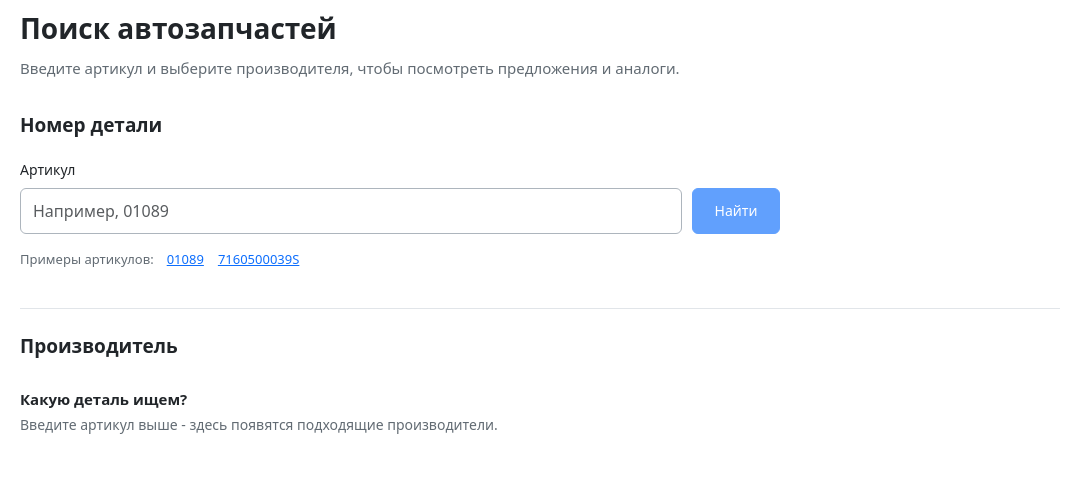
Test: подбор запчасти › отправляет один запрос после паузы, а не запрос на каждый введённый символ
The width and height of the screenshot is (1077, 499).
Step 1. Type "01089" into the field labelled "Артикул" → {"x": 351, "y": 211}, box [20,188,682,234]
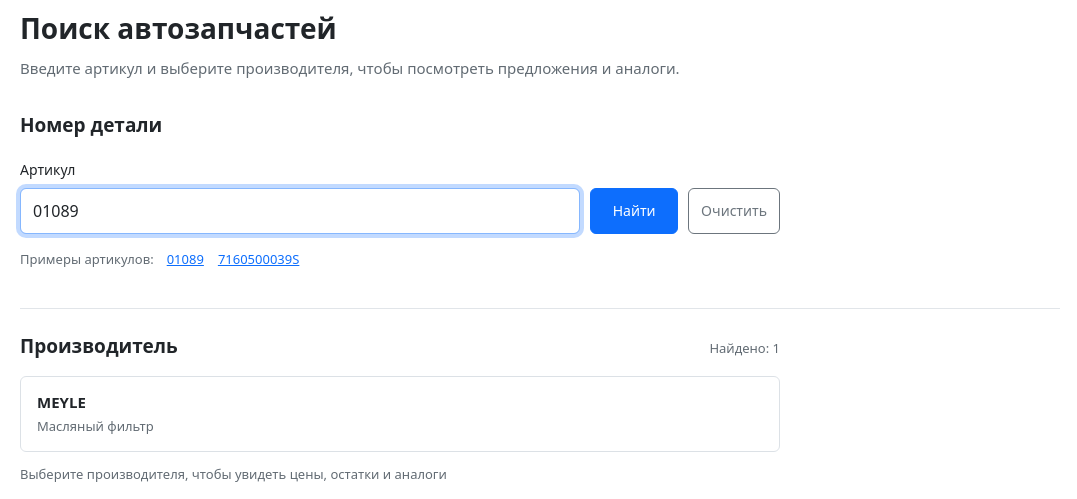
Result: the button "MEYLE Масляный фильтр" is shown at [20,376,780,452]
